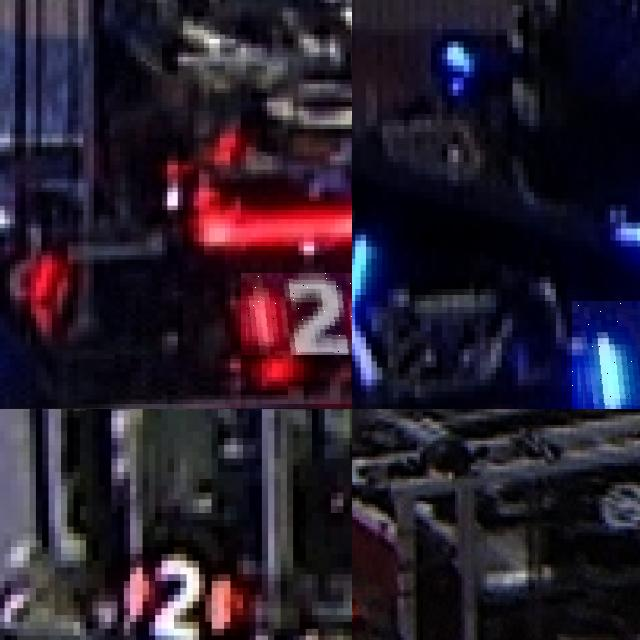B4: (572, 301, 640, 409), (352, 192, 371, 306)
R2: (111, 547, 230, 640), (240, 273, 352, 354)
